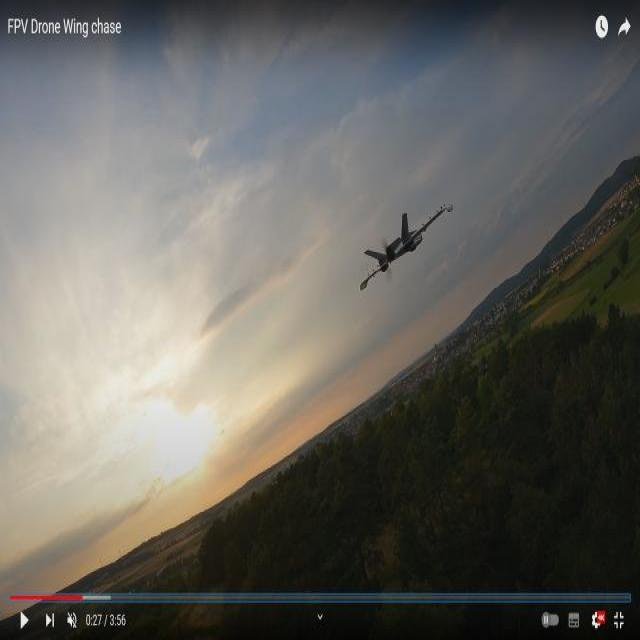UAV: (363, 212, 443, 280)
